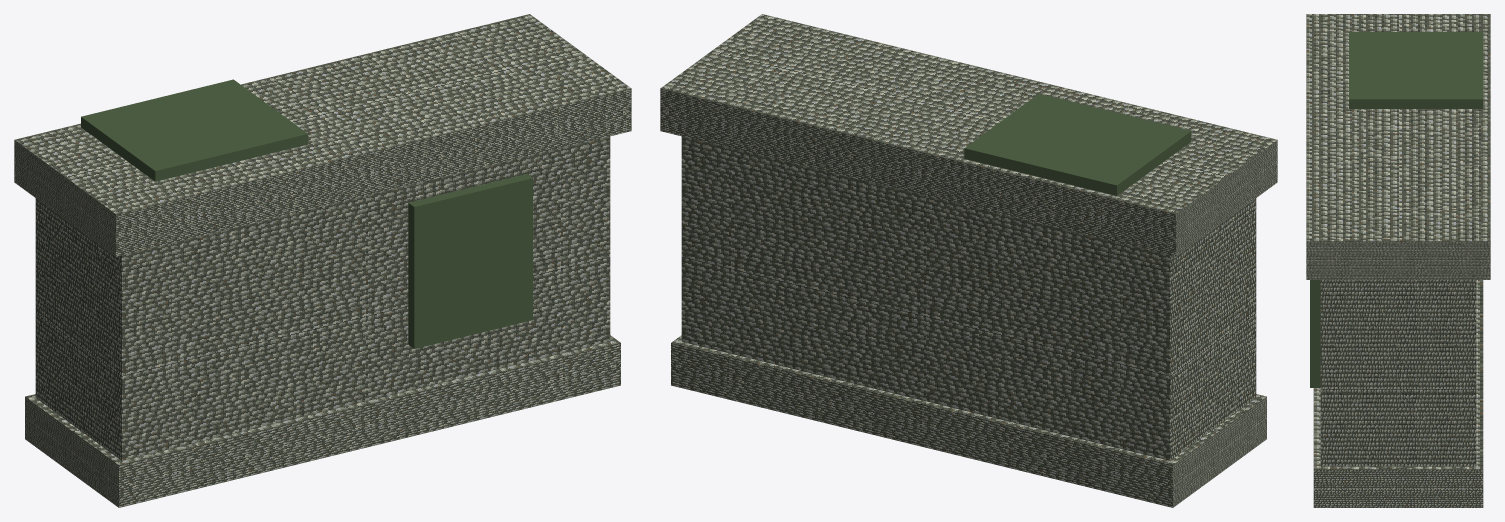
The model's file is muro.glb.
3 renders of one model, left to right at view 1: azimuth 30°, elevation 25°; view 2: azimuth 150°, elevation 25°; view 3: azimuth 270°, elevation 25°, orthographic. The views are drawn at different scales.
Parts seen in each view (by area): view 1: Cube, Cube.001, Cube.002, Cube.003, Cube.004; view 2: Cube, Cube.001, Cube.002, Cube.004; view 3: Cube.001, Cube, Cube.004, Cube.002, Cube.003.
Part boxes in pixels (x1,y1,x2,y2): Cube: (35, 136, 610, 460); Cube.001: (14, 14, 631, 256); Cube.002: (25, 335, 620, 507); Cube.003: (408, 174, 532, 348); Cube.004: (81, 79, 307, 181); Cube: (681, 136, 1256, 460); Cube.001: (660, 14, 1277, 256); Cube.002: (671, 335, 1266, 507); Cube.004: (964, 94, 1191, 195); Cube.001: (1306, 14, 1490, 279); Cube: (1320, 280, 1476, 466); Cube.004: (1349, 32, 1483, 108); Cube.002: (1313, 280, 1483, 507); Cube.003: (1310, 280, 1320, 387).
Bounding box in the file's own units: 1.52 × 0.87 × 0.52.
Materials: 2 (1 with a texture image).
